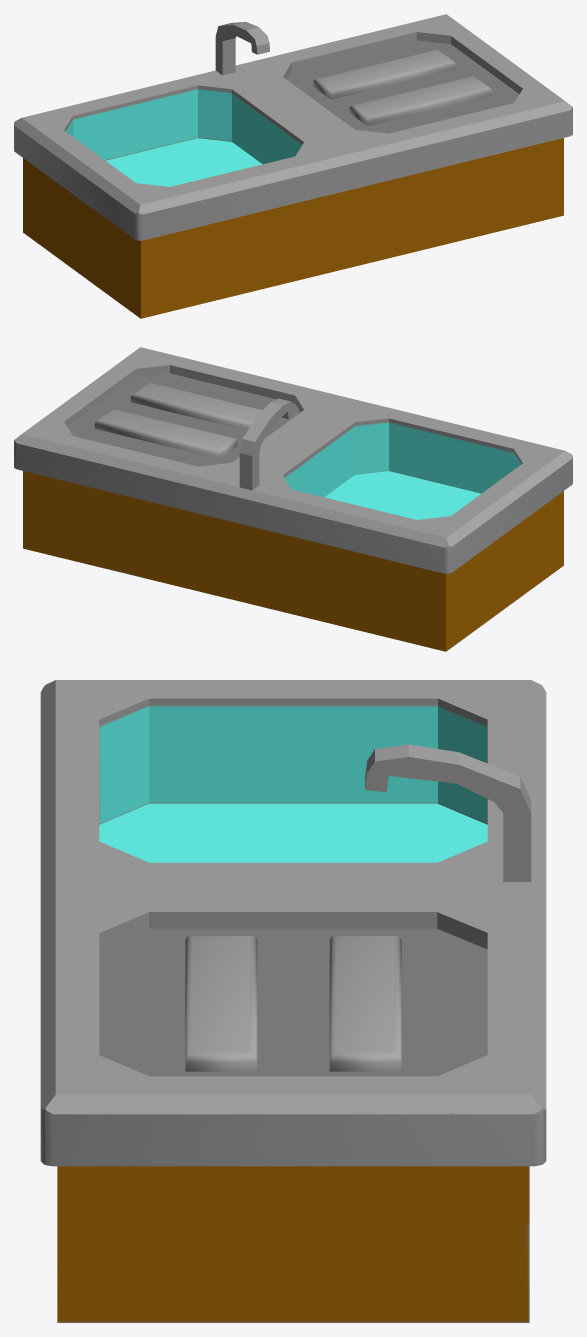
The model's file is kitchen.FBX.
3 renders of one model, top to bottom at view 1: azimuth 30°, elevation 25°; view 2: azimuth 150°, elevation 25°; view 3: azimuth 270°, elevation 25°, orthographic. The views are drawn at different scales.
Visible parts, largest first — view 1: Box001; view 2: Box001; view 3: Box001.
Boxes of the visible parts, left/top/right/bottom form: Box001: left=14, top=14, right=572, bottom=318; Box001: left=14, top=347, right=572, bottom=651; Box001: left=40, top=680, right=546, bottom=1322.
Bounding box in the file's own units: 280 × 140 × 108.
1 material, 1 textured.
